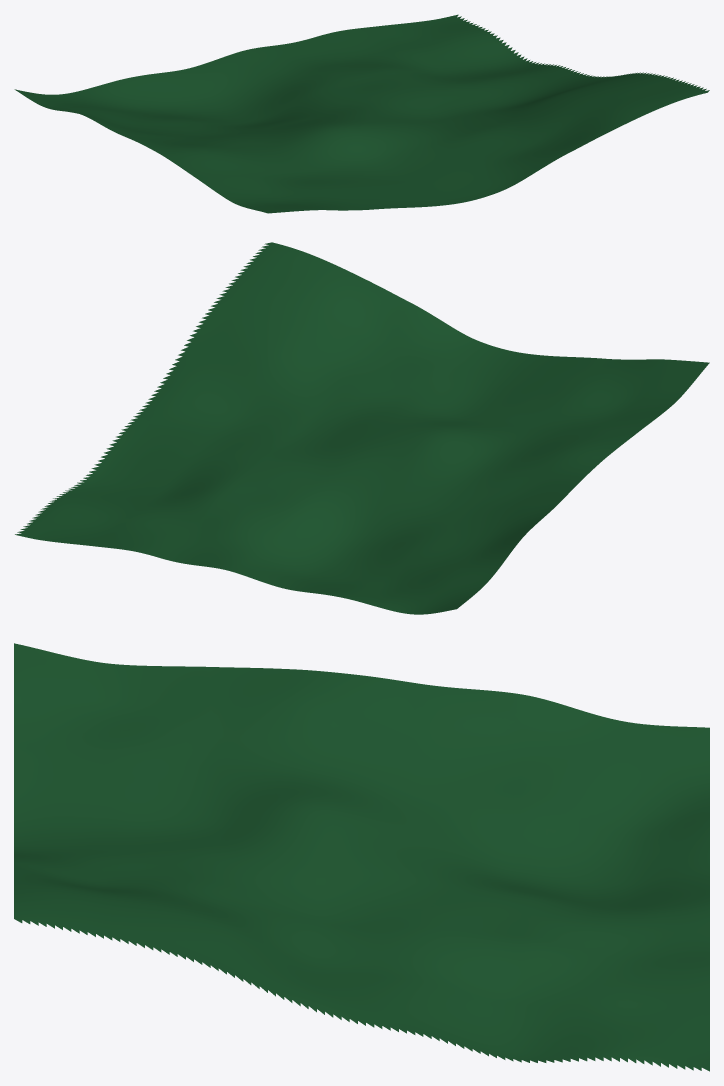
File: payo_land_xm1_ym3.glb
The picture shows the model from 3 angles, top to bottom: view 1: azimuth 30°, elevation 25°; view 2: azimuth 150°, elevation 25°; view 3: azimuth 270°, elevation 25°; orthographic projection. The views are drawn at different scales.
Parts seen in each view (by area): view 1: payo_land_xm1_ym3; view 2: payo_land_xm1_ym3; view 3: payo_land_xm1_ym3.
Part boxes in pixels (x1,y1,x2,y2): payo_land_xm1_ym3: (14,14,709,213); payo_land_xm1_ym3: (15,242,709,614); payo_land_xm1_ym3: (14,643,709,1071).
Size of the model in its own units: 258 by 60.35 by 255.
